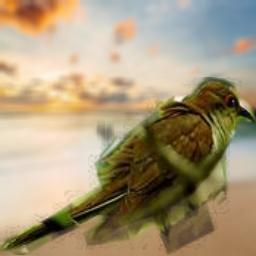Cuckoo: (0, 77, 256, 255)
